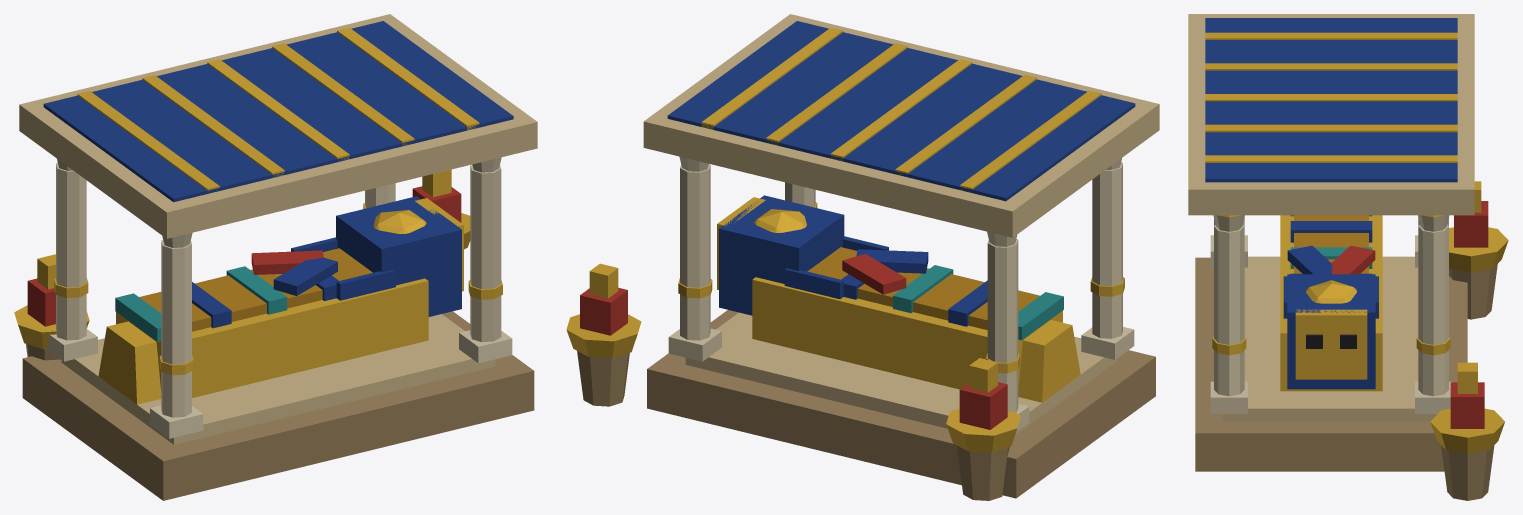
Rendered from Decor_PharaohPyramid_Sarcophagus.fbx.
3 views of the same model, side by side, from view 1: azimuth 30°, elevation 25°; view 2: azimuth 150°, elevation 25°; view 3: azimuth 270°, elevation 25° (orthographic). The views are drawn at different scales.
Visible parts, largest first — view 1: Sarcophagus_Body; view 2: Sarcophagus_Body; view 3: Sarcophagus_Body.
Boxes of the visible parts, left/top/right/bottom form: Sarcophagus_Body: left=14, top=14, right=537, bottom=500; Sarcophagus_Body: left=566, top=14, right=1159, bottom=500; Sarcophagus_Body: left=1188, top=14, right=1508, bottom=500.
Bounding box in the file's own units: 14.2 × 8.9 × 9.
